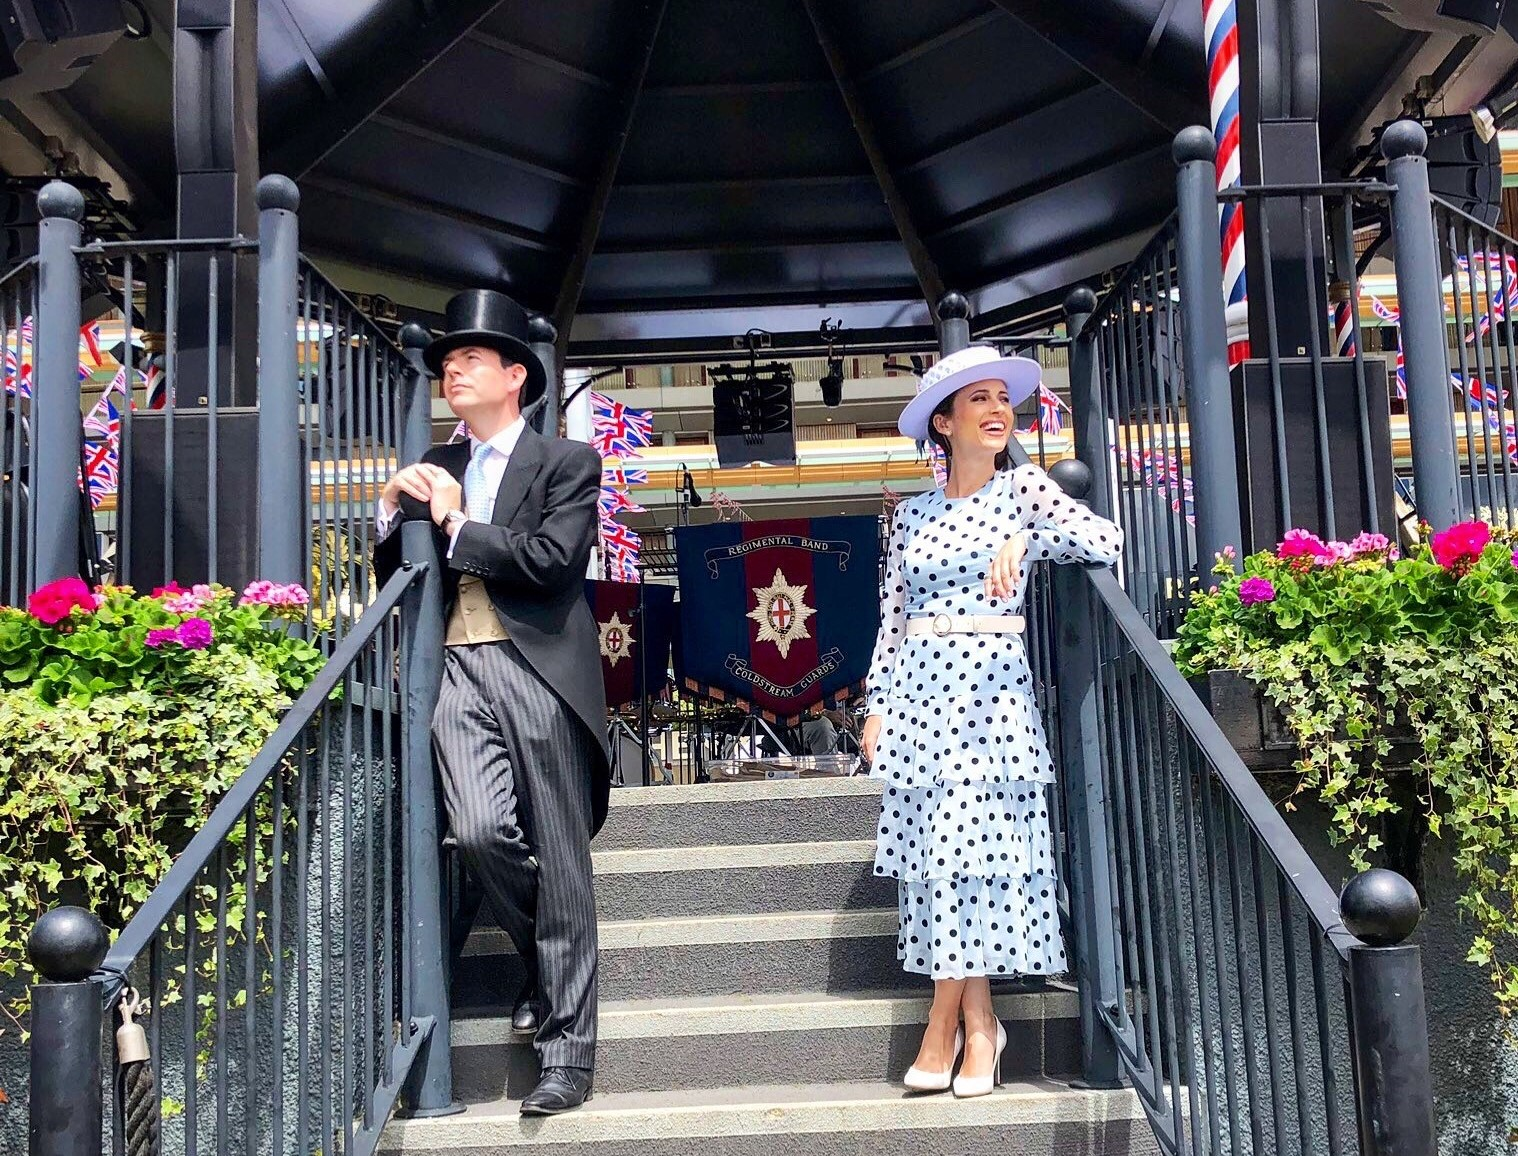Person: (373, 288, 613, 1117), (861, 344, 1125, 1096)
